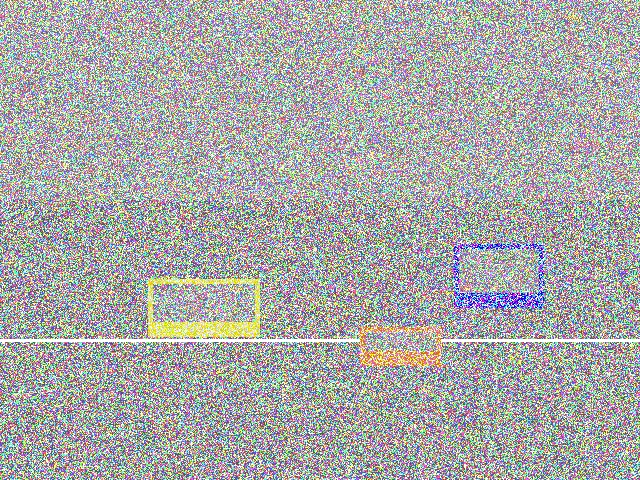truck: (450, 194, 597, 288), (314, 332, 388, 390)
